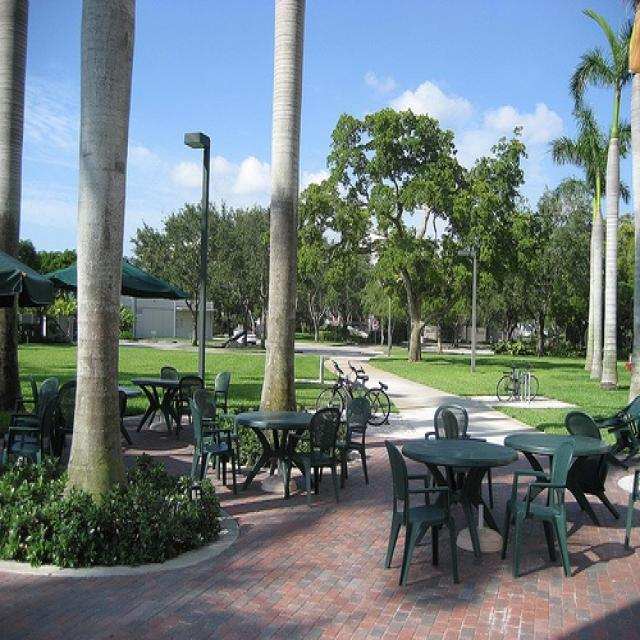bicycle: (314, 360, 396, 428), (492, 362, 544, 406)
pole: (258, 0, 308, 410), (195, 145, 211, 376)
